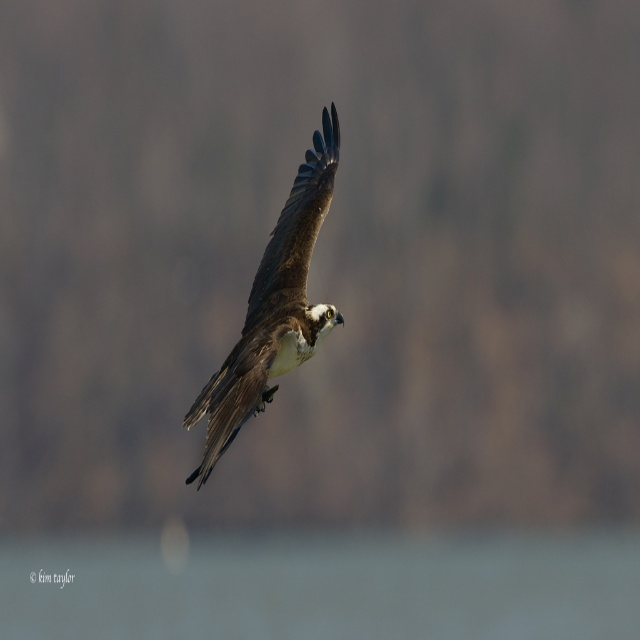Eagle: (180, 101, 344, 493)
